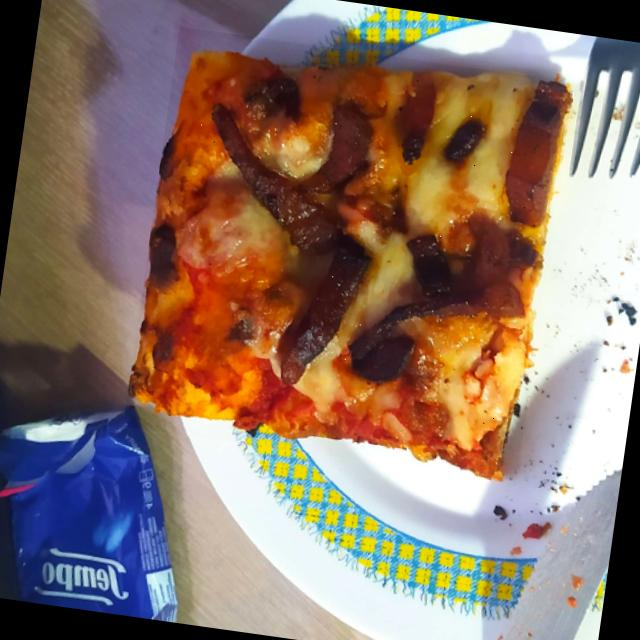pizza: (132, 51, 570, 478)
